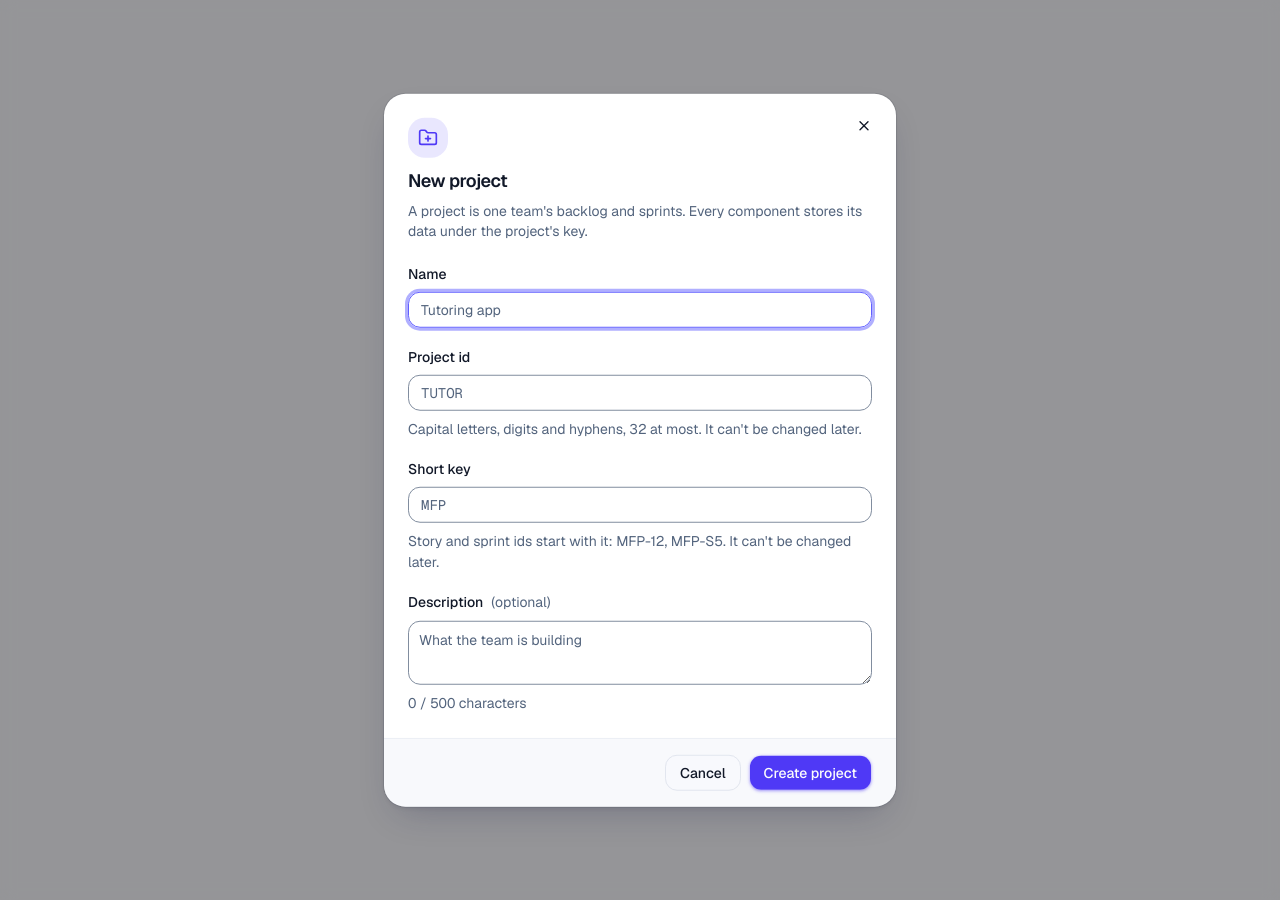
NewProjectDialog › puts the gateway's 'already exists' on the id
The image size is (1280, 900).
In the field labelled "Name": (640, 310) [408,292,872,328], type "Tutor"
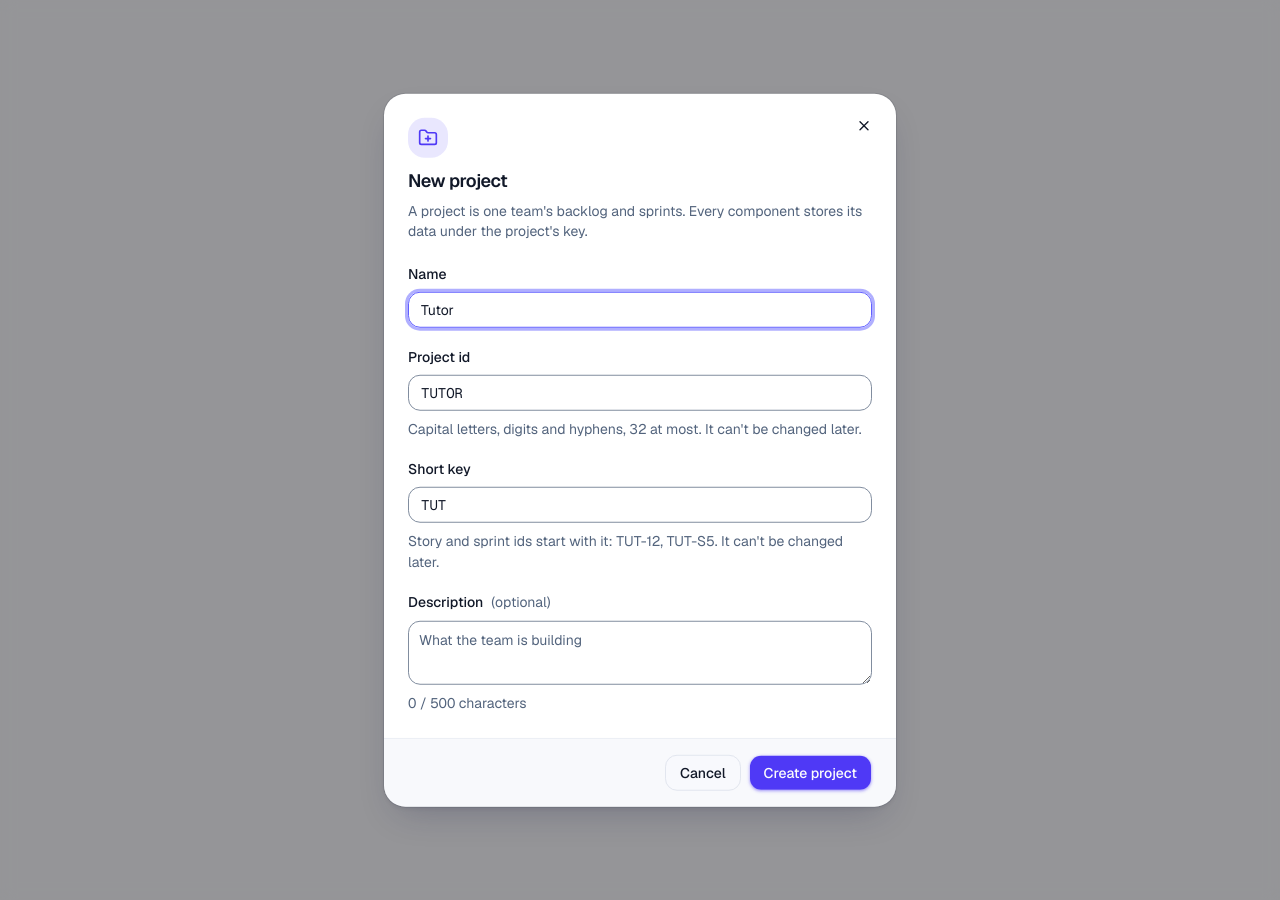
Click the button "Create project": click(810, 772) [749,754,872,790]
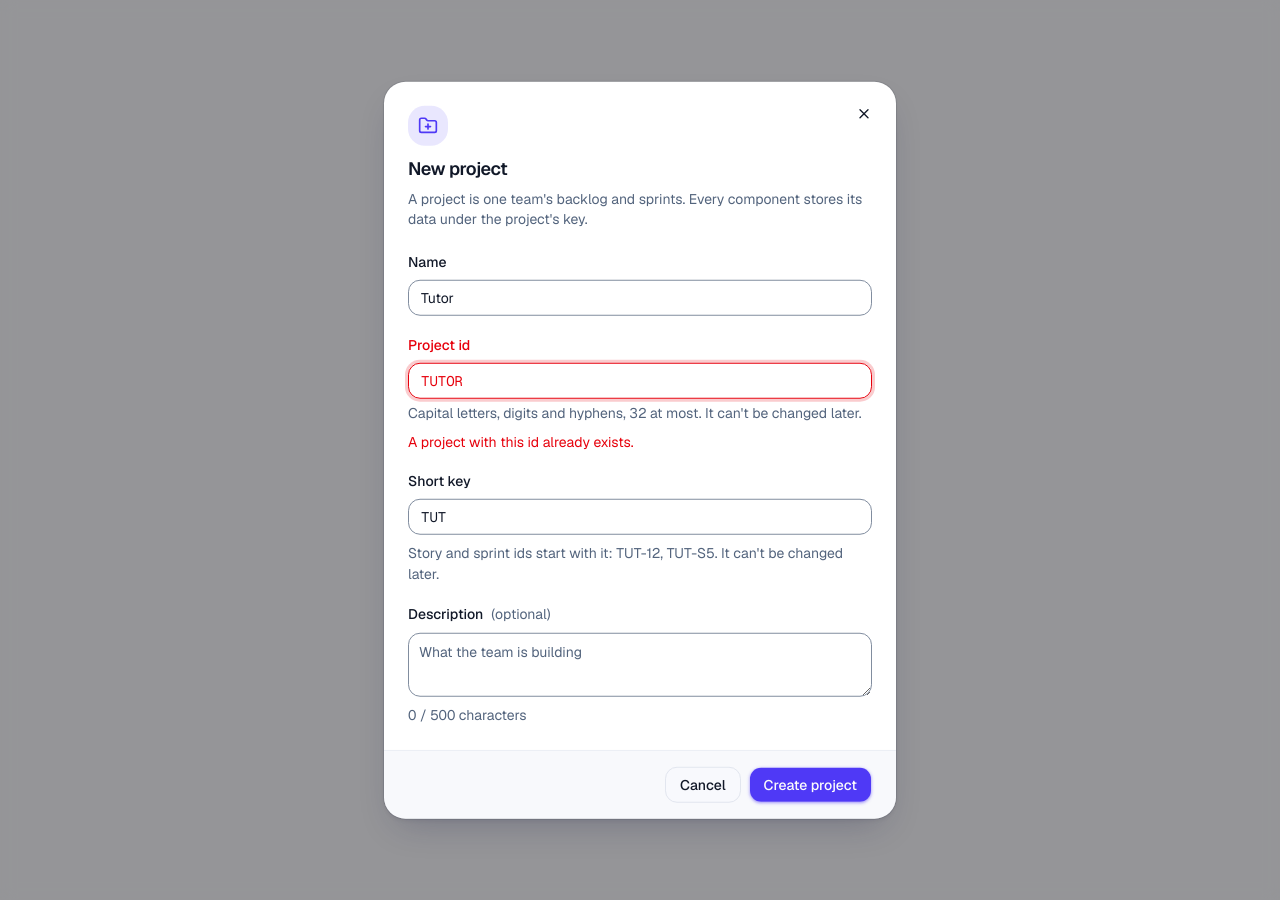
Expected: the text "A project with this id already exists." is shown, [408,433,634,451]
